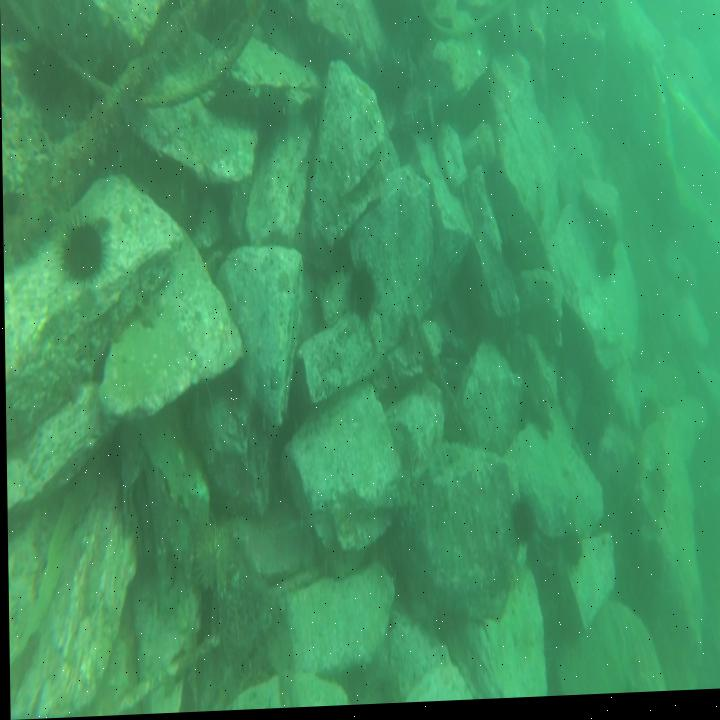echinus: (60, 219, 104, 288), (192, 528, 232, 596), (347, 268, 375, 323), (509, 499, 534, 548), (596, 252, 616, 288)
